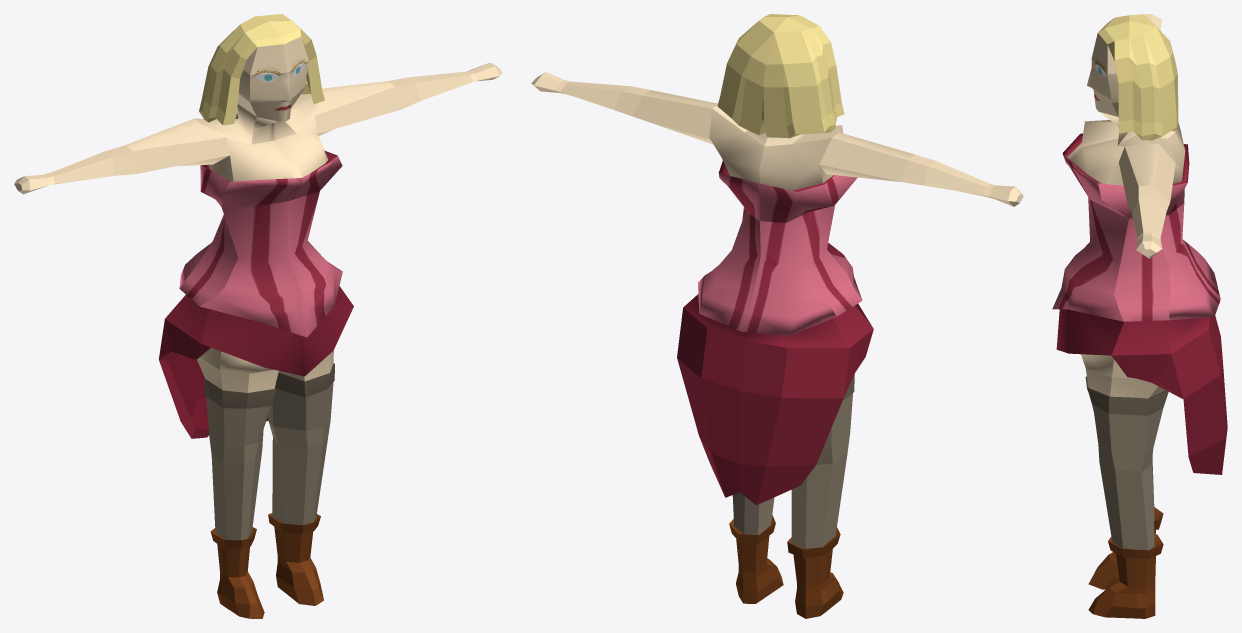
Rendered from saloon_girl.fbx.
3 views of the same model, side by side, from view 1: azimuth 30°, elevation 25°; view 2: azimuth 150°, elevation 25°; view 3: azimuth 270°, elevation 25° (orthographic).
Parts seen in each view (by area): view 1: pCube3; view 2: pCube3; view 3: pCube3.
Part boxes in pixels (x1,y1,x2,y2): pCube3: (14,14,502,618); pCube3: (531,14,1023,618); pCube3: (1052,14,1227,618).
Size of the model in its own units: 1.32 by 1.52 by 0.4174.
Materials: 1 (1 with a texture image).
